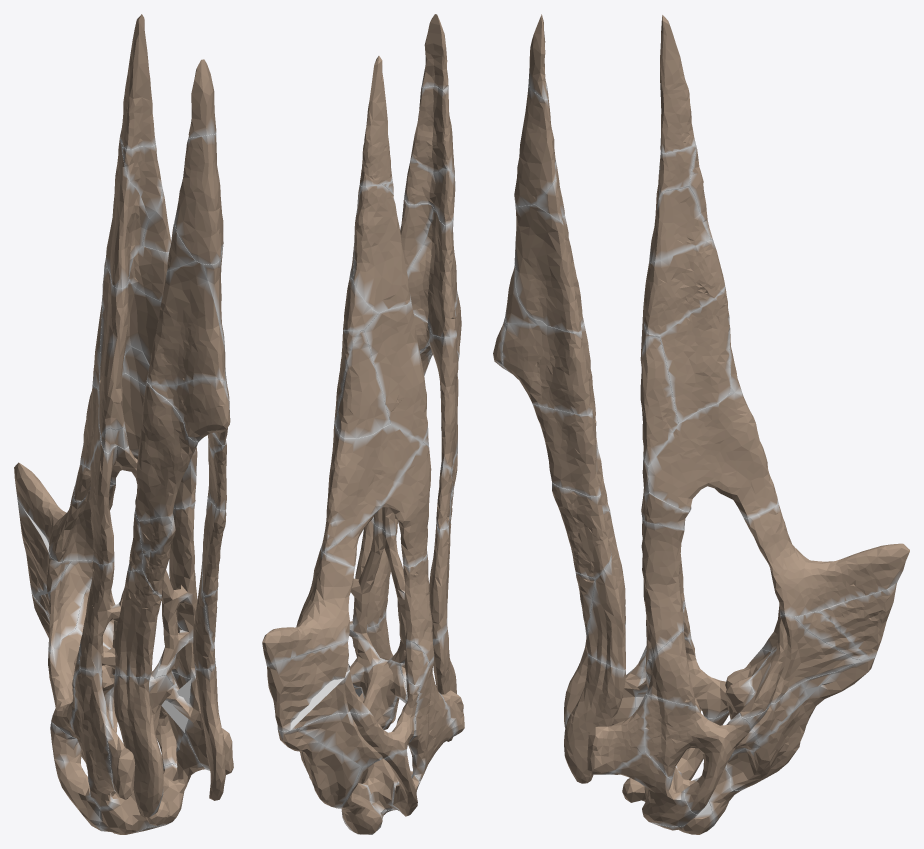
File: break_q.fbx
3 renders of one model, left to right at view 1: azimuth 30°, elevation 25°; view 2: azimuth 150°, elevation 25°; view 3: azimuth 270°, elevation 25°, orthographic. The views are drawn at different scales.
Visible parts, largest first — view 1: uploads_files_5031423_quetzalcoatlus_skull_ply_cell.023, uploads_files_5031423_quetzalcoatlus_skull_ply_cell.038, uploads_files_5031423_quetzalcoatlus_skull_ply_cell.026, uploads_files_5031423_quetzalcoatlus_skull_ply_cell.014, uploads_files_5031423_quetzalcoatlus_skull_ply_cell.036, uploads_files_5031423_quetzalcoatlus_skull_ply_cell.050, uploads_files_5031423_quetzalcoatlus_skull_ply_cell.031, uploads_files_5031423_quetzalcoatlus_skull_ply_cell.015, uploads_files_5031423_quetzalcoatlus_skull_ply_cell.046, uploads_files_5031423_quetzalcoatlus_skull_ply_cell.047, uploads_files_5031423_quetzalcoatlus_skull_ply_cell.030, uploads_files_5031423_quetzalcoatlus_skull_ply_cell.037 (+31 smaller); view 2: uploads_files_5031423_quetzalcoatlus_skull_ply_cell.022, uploads_files_5031423_quetzalcoatlus_skull_ply_cell.030, uploads_files_5031423_quetzalcoatlus_skull_ply_cell.014, uploads_files_5031423_quetzalcoatlus_skull_ply_cell.023, uploads_files_5031423_quetzalcoatlus_skull_ply_cell.031, uploads_files_5031423_quetzalcoatlus_skull_ply_cell.032, uploads_files_5031423_quetzalcoatlus_skull_ply_cell.038, uploads_files_5031423_quetzalcoatlus_skull_ply_cell.006, uploads_files_5031423_quetzalcoatlus_skull_ply_cell.039, uploads_files_5031423_quetzalcoatlus_skull_ply_cell.002, uploads_files_5031423_quetzalcoatlus_skull_ply_cell.010, uploads_files_5031423_quetzalcoatlus_skull_ply_cell.036 (+23 smaller); view 3: uploads_files_5031423_quetzalcoatlus_skull_ply_cell.022, uploads_files_5031423_quetzalcoatlus_skull_ply_cell.031, uploads_files_5031423_quetzalcoatlus_skull_ply_cell.018, uploads_files_5031423_quetzalcoatlus_skull_ply_cell.012, uploads_files_5031423_quetzalcoatlus_skull_ply_cell.017, uploads_files_5031423_quetzalcoatlus_skull_ply_cell.029, uploads_files_5031423_quetzalcoatlus_skull_ply_cell.042, uploads_files_5031423_quetzalcoatlus_skull_ply_cell.023, uploads_files_5031423_quetzalcoatlus_skull_ply_cell.011, uploads_files_5031423_quetzalcoatlus_skull_ply_cell.006, uploads_files_5031423_quetzalcoatlus_skull_ply_cell.010, uploads_files_5031423_quetzalcoatlus_skull_ply_cell.051 (+22 smaller).
Boxes of the visible parts, bbox=[...] form: uploads_files_5031423_quetzalcoatlus_skull_ply_cell.023: bbox=[79, 502, 197, 674]; uploads_files_5031423_quetzalcoatlus_skull_ply_cell.038: bbox=[147, 261, 225, 385]; uploads_files_5031423_quetzalcoatlus_skull_ply_cell.026: bbox=[135, 380, 222, 520]; uploads_files_5031423_quetzalcoatlus_skull_ply_cell.014: bbox=[99, 268, 161, 438]; uploads_files_5031423_quetzalcoatlus_skull_ply_cell.036: bbox=[174, 134, 223, 264]; uploads_files_5031423_quetzalcoatlus_skull_ply_cell.050: bbox=[113, 675, 163, 817]; uploads_files_5031423_quetzalcoatlus_skull_ply_cell.031: bbox=[14, 462, 115, 562]; uploads_files_5031423_quetzalcoatlus_skull_ply_cell.015: bbox=[71, 669, 115, 807]; uploads_files_5031423_quetzalcoatlus_skull_ply_cell.046: bbox=[114, 570, 161, 678]; uploads_files_5031423_quetzalcoatlus_skull_ply_cell.047: bbox=[99, 733, 209, 833]; uploads_files_5031423_quetzalcoatlus_skull_ply_cell.030: bbox=[105, 135, 148, 288]; uploads_files_5031423_quetzalcoatlus_skull_ply_cell.037: bbox=[120, 14, 155, 149]; uploads_files_5031423_quetzalcoatlus_skull_ply_cell.022: bbox=[321, 424, 422, 551]; uploads_files_5031423_quetzalcoatlus_skull_ply_cell.030: bbox=[353, 184, 411, 312]; uploads_files_5031423_quetzalcoatlus_skull_ply_cell.014: bbox=[364, 302, 427, 442]; uploads_files_5031423_quetzalcoatlus_skull_ply_cell.023: bbox=[349, 522, 434, 663]; uploads_files_5031423_quetzalcoatlus_skull_ply_cell.031: bbox=[262, 548, 354, 666]; uploads_files_5031423_quetzalcoatlus_skull_ply_cell.032: bbox=[267, 640, 349, 731]; uploads_files_5031423_quetzalcoatlus_skull_ply_cell.038: bbox=[407, 208, 457, 337]; uploads_files_5031423_quetzalcoatlus_skull_ply_cell.006: bbox=[300, 678, 420, 767]; uploads_files_5031423_quetzalcoatlus_skull_ply_cell.039: bbox=[373, 443, 431, 566]; uploads_files_5031423_quetzalcoatlus_skull_ply_cell.002: bbox=[335, 330, 390, 438]; uploads_files_5031423_quetzalcoatlus_skull_ply_cell.010: bbox=[277, 728, 361, 808]; uploads_files_5031423_quetzalcoatlus_skull_ply_cell.036: bbox=[410, 86, 455, 183]; uploads_files_5031423_quetzalcoatlus_skull_ply_cell.022: bbox=[648, 392, 778, 517]; uploads_files_5031423_quetzalcoatlus_skull_ply_cell.031: bbox=[743, 504, 909, 616]; uploads_files_5031423_quetzalcoatlus_skull_ply_cell.018: bbox=[644, 695, 758, 814]; uploads_files_5031423_quetzalcoatlus_skull_ply_cell.012: bbox=[660, 286, 730, 423]; uploads_files_5031423_quetzalcoatlus_skull_ply_cell.017: bbox=[514, 204, 581, 332]; uploads_files_5031423_quetzalcoatlus_skull_ply_cell.029: bbox=[502, 323, 592, 414]; uploads_files_5031423_quetzalcoatlus_skull_ply_cell.042: bbox=[644, 239, 725, 335]; uploads_files_5031423_quetzalcoatlus_skull_ply_cell.023: bbox=[641, 518, 684, 663]; uploads_files_5031423_quetzalcoatlus_skull_ply_cell.011: bbox=[739, 615, 861, 717]; uploads_files_5031423_quetzalcoatlus_skull_ply_cell.006: bbox=[684, 638, 834, 754]; uploads_files_5031423_quetzalcoatlus_skull_ply_cell.010: bbox=[726, 657, 875, 790]; uploads_files_5031423_quetzalcoatlus_skull_ply_cell.051: bbox=[532, 404, 600, 496].
Bounding box in the file's own units: 142 × 930 × 430.
